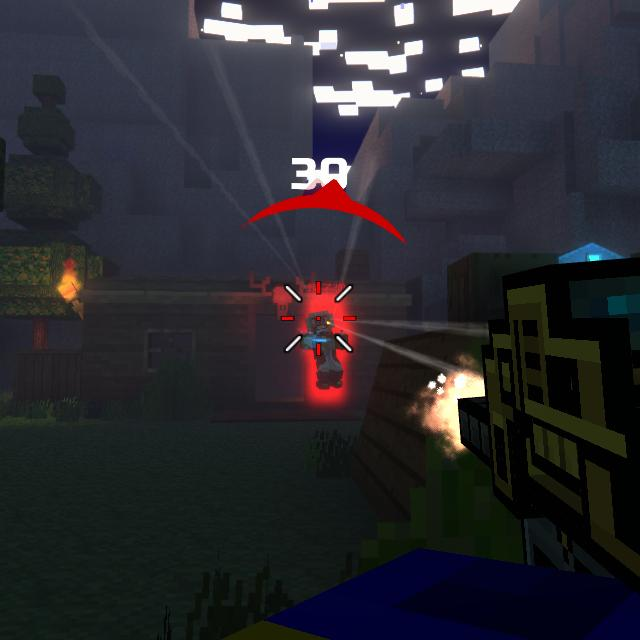Enemy: (300, 310, 350, 390)
